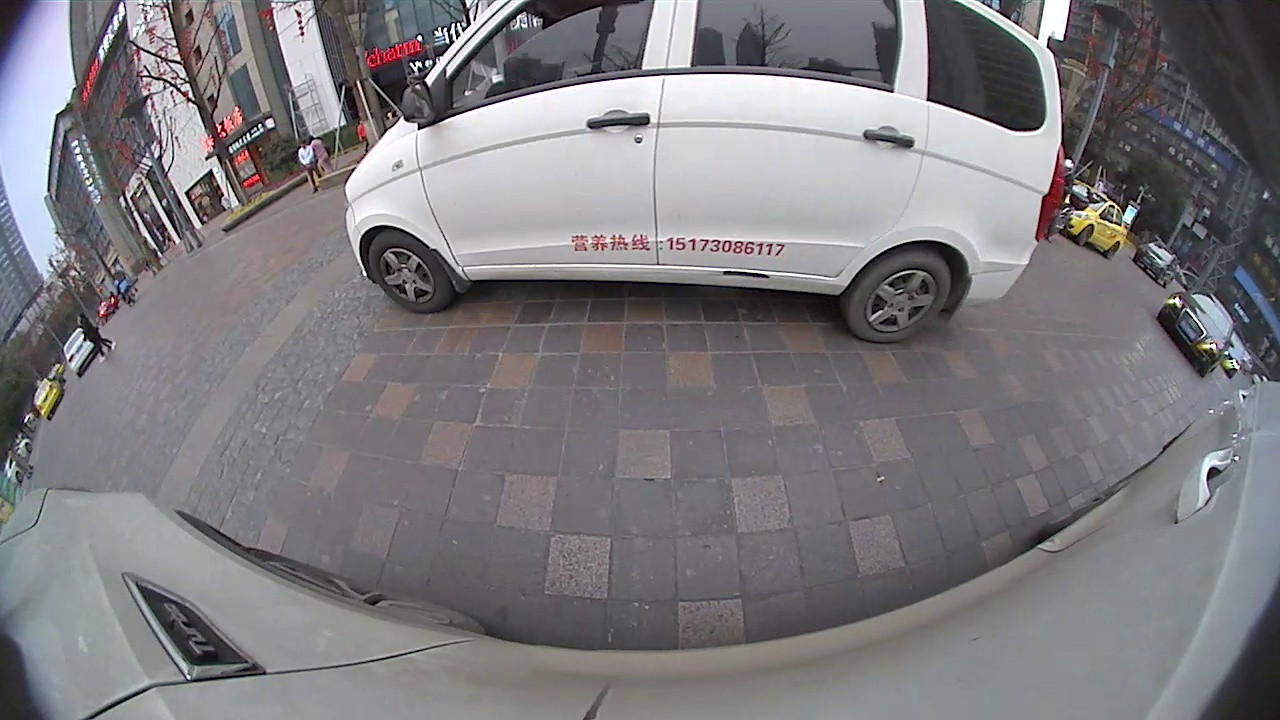car: (340, 1, 1067, 346), (1156, 289, 1237, 378), (1049, 178, 1129, 261), (1132, 239, 1180, 289), (62, 329, 100, 379), (33, 377, 67, 422)
front: (364, 227, 457, 317)
person: (79, 313, 93, 359)
rear: (844, 243, 955, 344)
